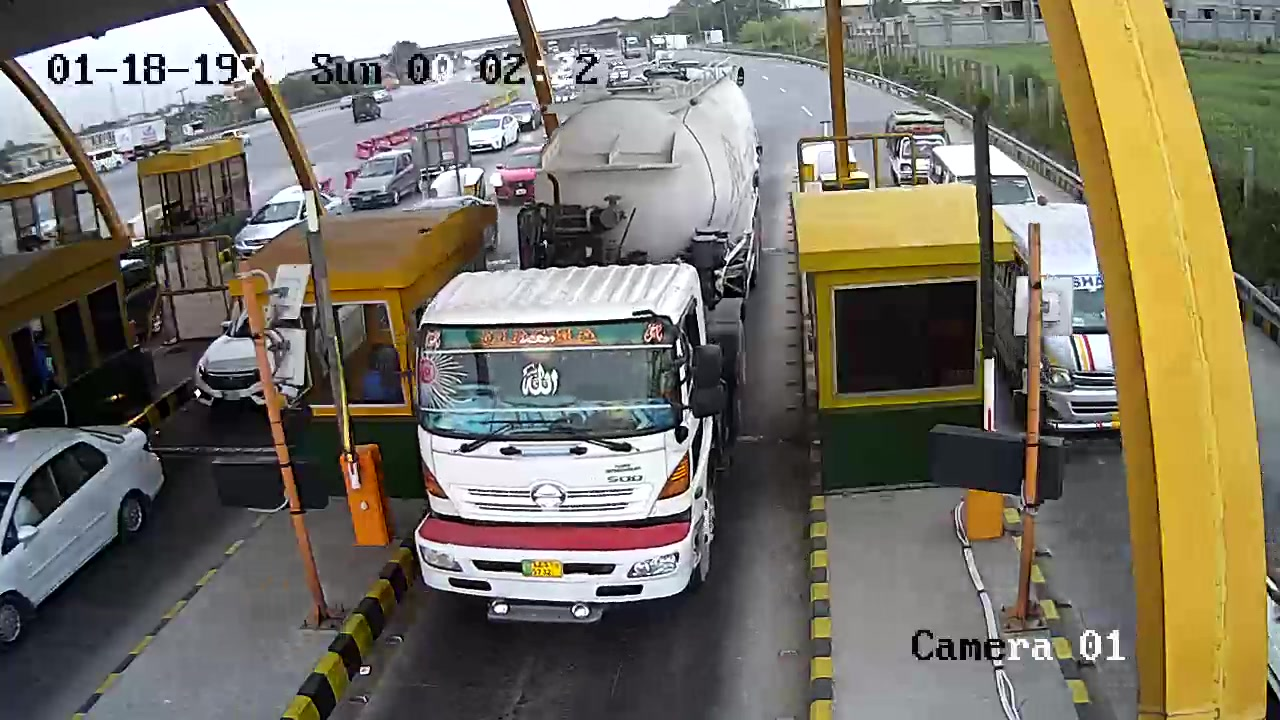F6: (406, 60, 770, 644)
